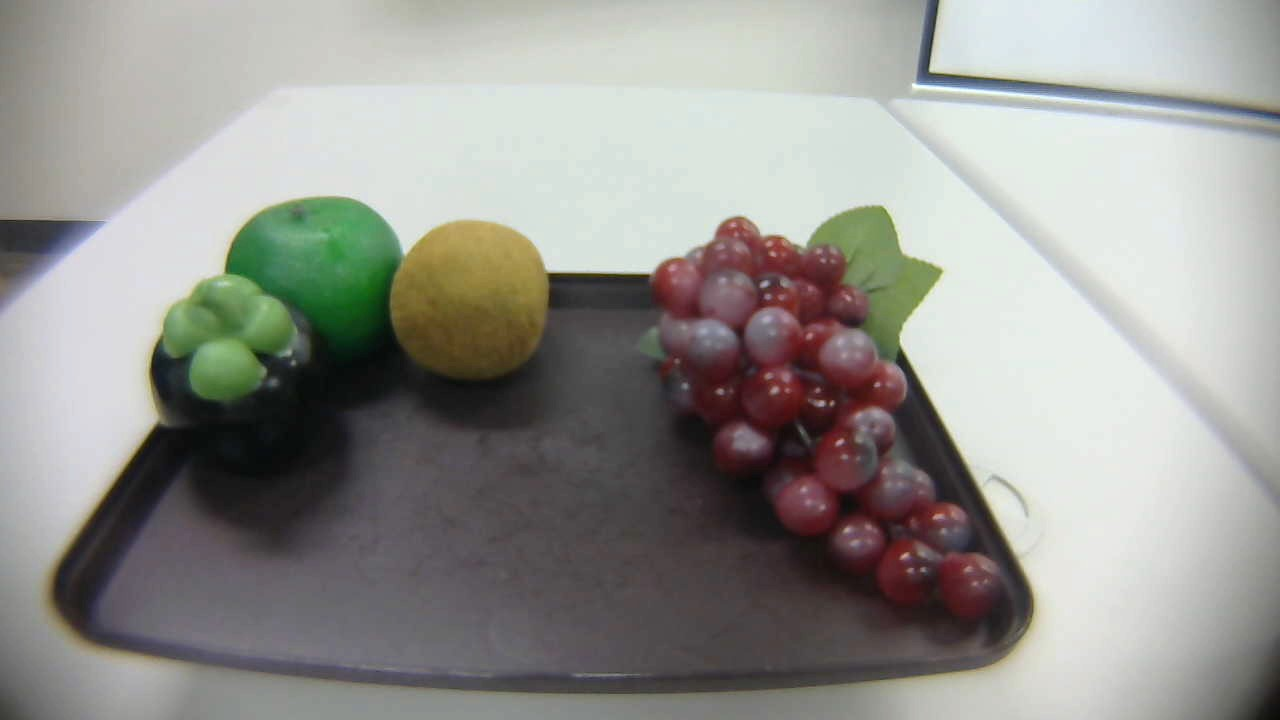grape: (642, 196, 1013, 628)
green orange: (217, 184, 415, 376)
kiwi fruit: (383, 204, 553, 391)
mangosteen: (142, 265, 337, 483)
